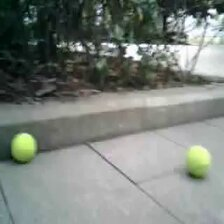tennis: (184, 146, 212, 176), (10, 133, 38, 162)
